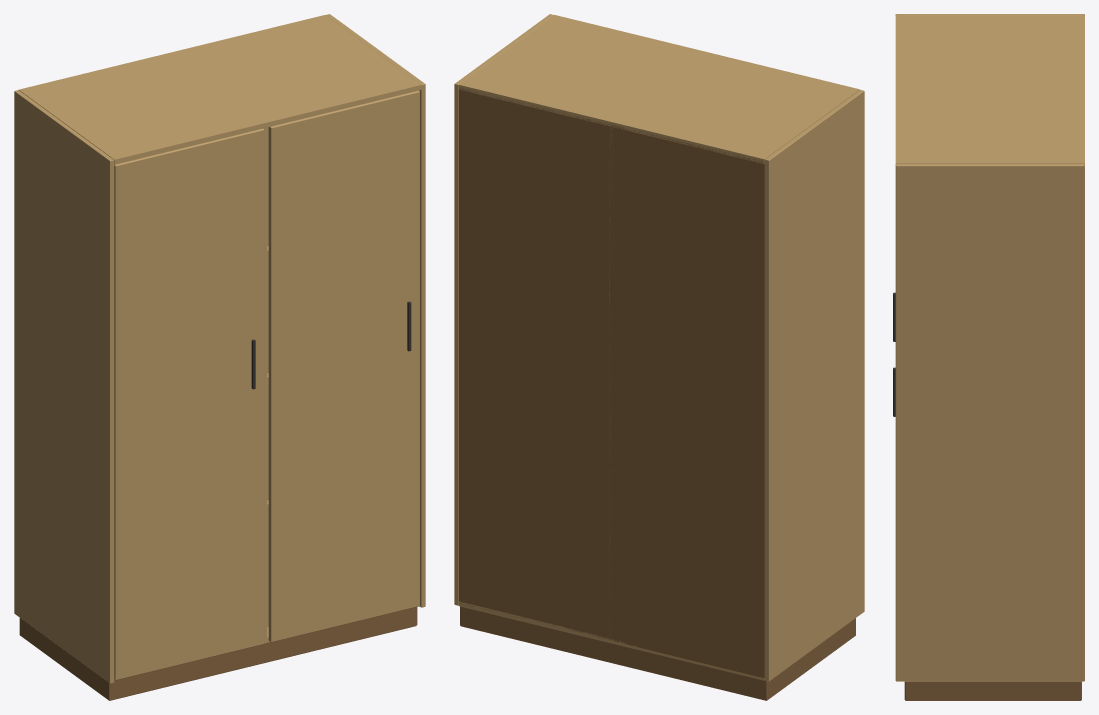
The model's file is wardrobe-two-bay.glb.
The picture shows the model from 3 angles, left to right: view 1: azimuth 30°, elevation 25°; view 2: azimuth 150°, elevation 25°; view 3: azimuth 270°, elevation 25°; orthographic projection.
Parts seen in each view (by area): view 1: wardrobe-door-1, wardrobe-door-0, wardrobe-side-left, wardrobe-top, wardrobe-plinth, wardrobe-side-right, wardrobe-partition-0; view 2: wardrobe-back, wardrobe-side-left, wardrobe-top, wardrobe-plinth, wardrobe-side-right, wardrobe-bottom; view 3: wardrobe-side-right, wardrobe-top, wardrobe-plinth, wardrobe-side-left.
Part boxes in pixels (box(x1,y1,x2,y2)): wardrobe-door-1: box(268, 90, 419, 642); wardrobe-door-0: box(114, 128, 264, 680); wardrobe-side-left: box(14, 90, 114, 683); wardrobe-top: box(19, 15, 421, 164); wardrobe-plinth: box(19, 607, 417, 700); wardrobe-side-right: box(326, 14, 425, 607); wardrobe-partition-0: box(263, 127, 267, 638); wardrobe-back: box(459, 88, 764, 678); wardrobe-side-left: box(765, 90, 864, 681); wardrobe-top: box(459, 15, 859, 163); wardrobe-plinth: box(460, 606, 855, 700); wardrobe-side-right: box(454, 14, 553, 605); wardrobe-bottom: box(459, 601, 764, 680); wardrobe-side-right: box(895, 164, 1084, 681); wardrobe-top: box(895, 16, 1084, 163); wardrobe-plinth: box(904, 681, 1081, 700); wardrobe-side-left: box(895, 14, 1084, 15).
Size of the model in its own units: 1.21 by 2 by 0.647.
